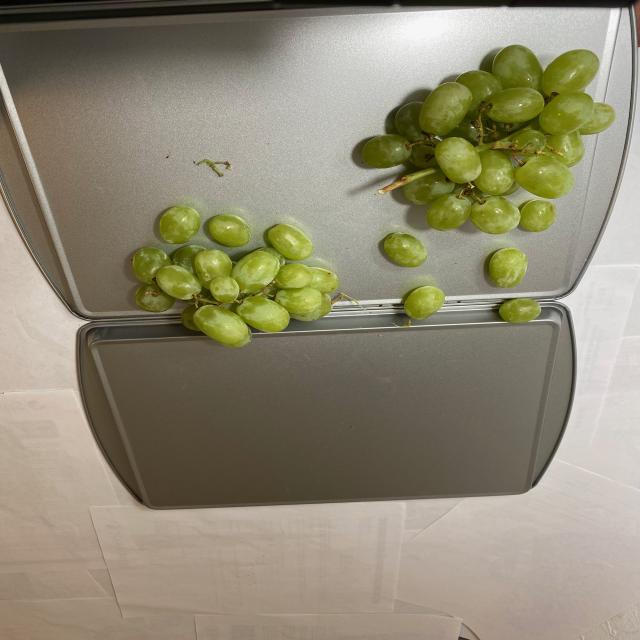grapes: (358, 42, 611, 332), (124, 204, 346, 346)
